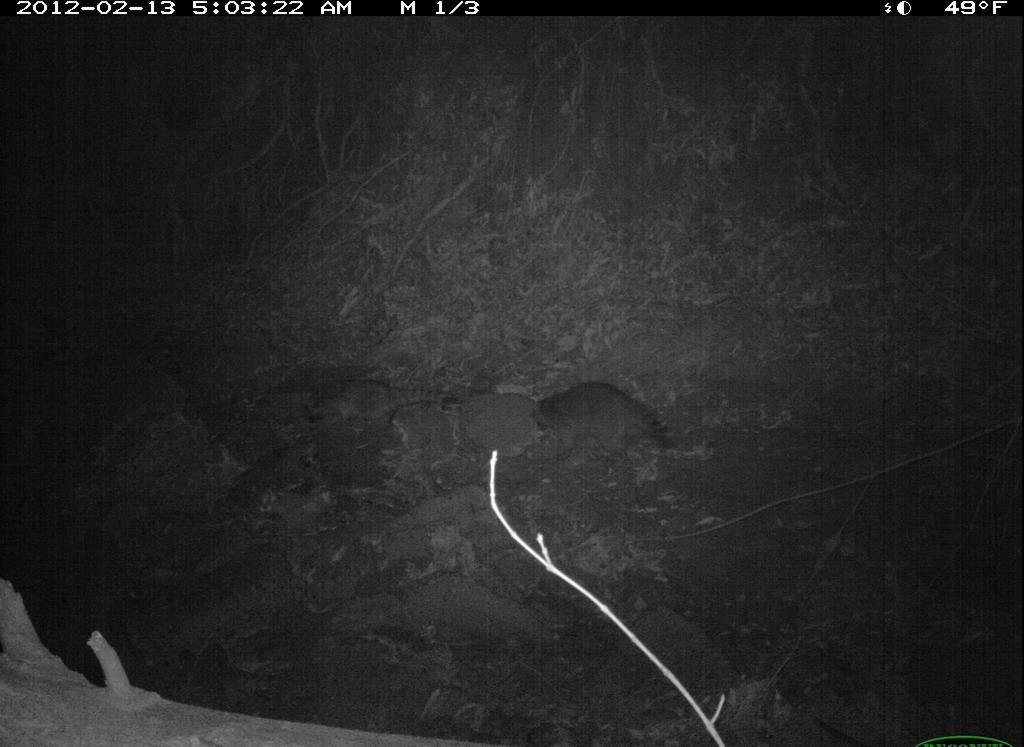raccoon: (489, 361, 688, 497)
